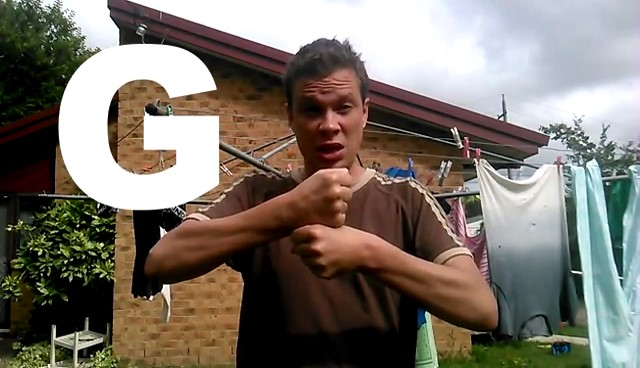G: (288, 162, 371, 288)
